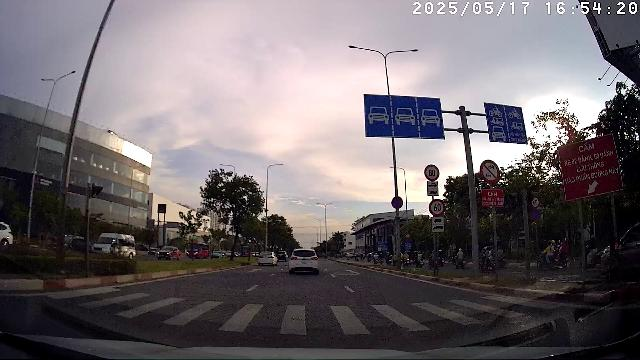127-toc-do-toi-da-60: (428, 198, 446, 217), (531, 197, 540, 208)
127-toc-do-toi-da-80: (424, 164, 440, 181)
